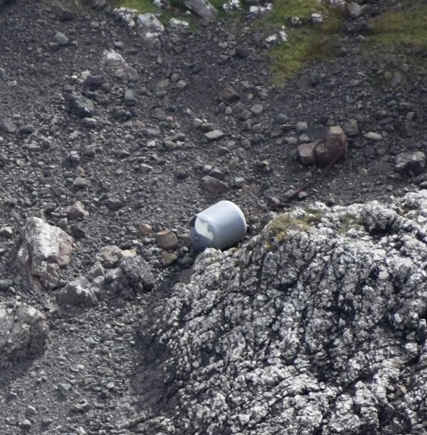white_in_green: (168, 174, 276, 276)
